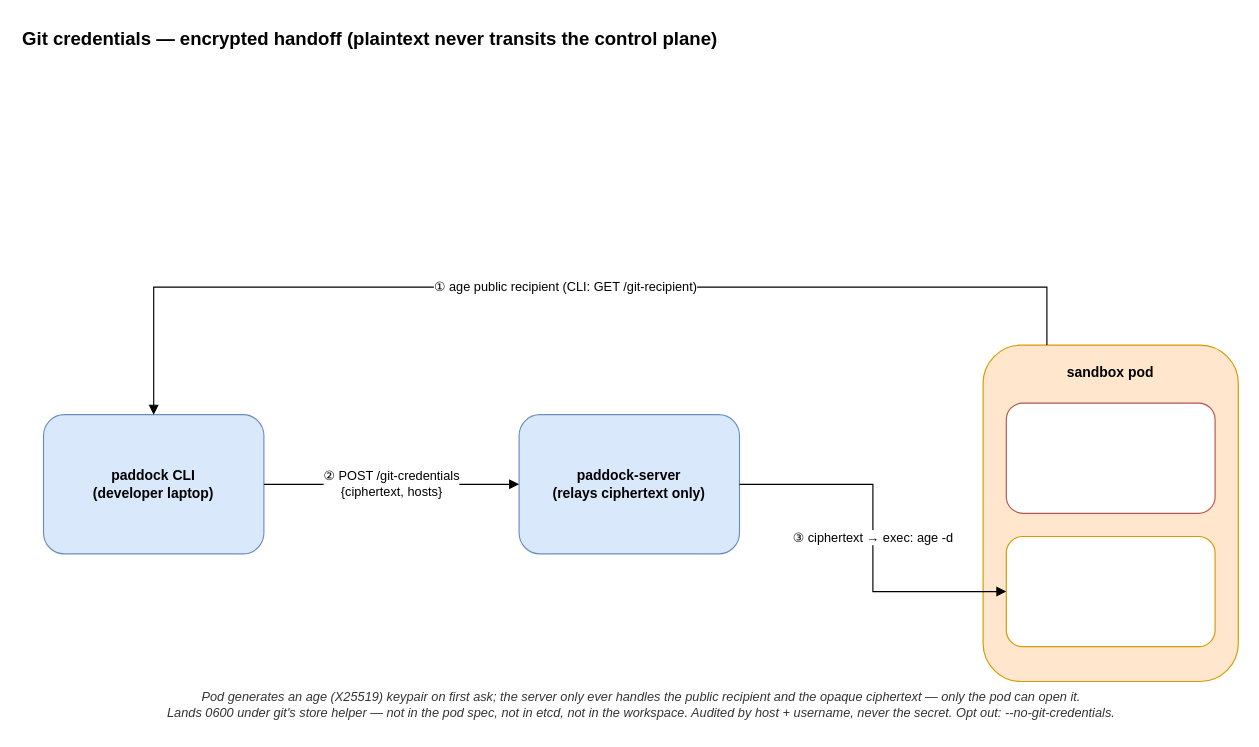
This 1259x747 diagram has some shape labels left out. The shapes that lost their labels are listed below. From the top down, each one's centre as x and y in pixels, then its label:
At (1110,457): "age-keygen private key stays here (never leaves)".
At (1110,591): "age -d -i key → ~/.git-credentials (0600)".
